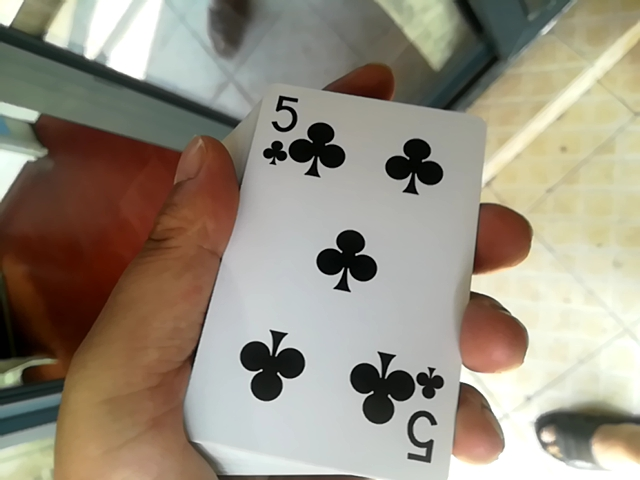mh 5: (177, 48, 484, 473)
